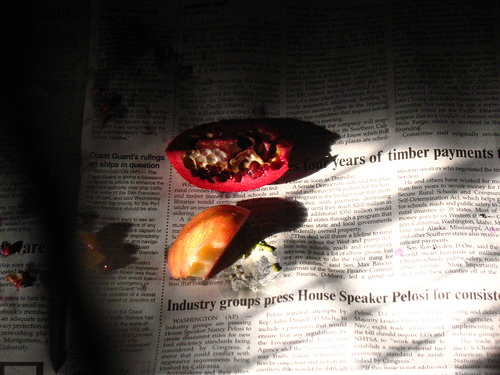pomogranate: (163, 117, 296, 192), (167, 203, 252, 281)
